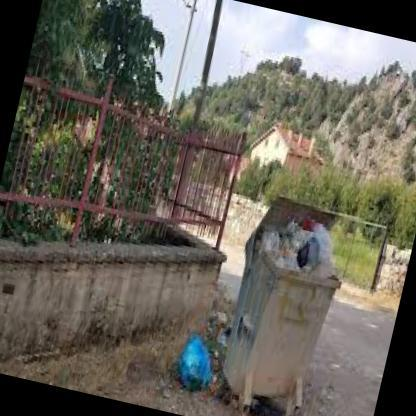Garbage: (254, 206, 342, 279), (171, 332, 217, 391), (312, 228, 334, 258), (279, 248, 299, 271), (297, 240, 313, 267), (282, 220, 300, 240), (300, 218, 318, 234)
